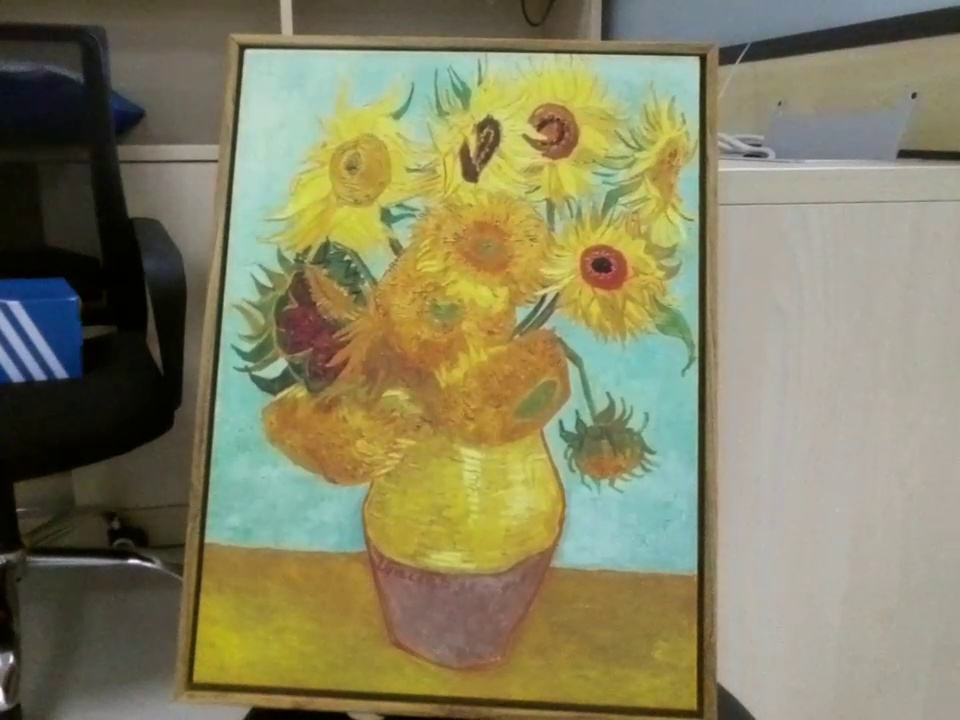painting: (191, 32, 723, 715)
